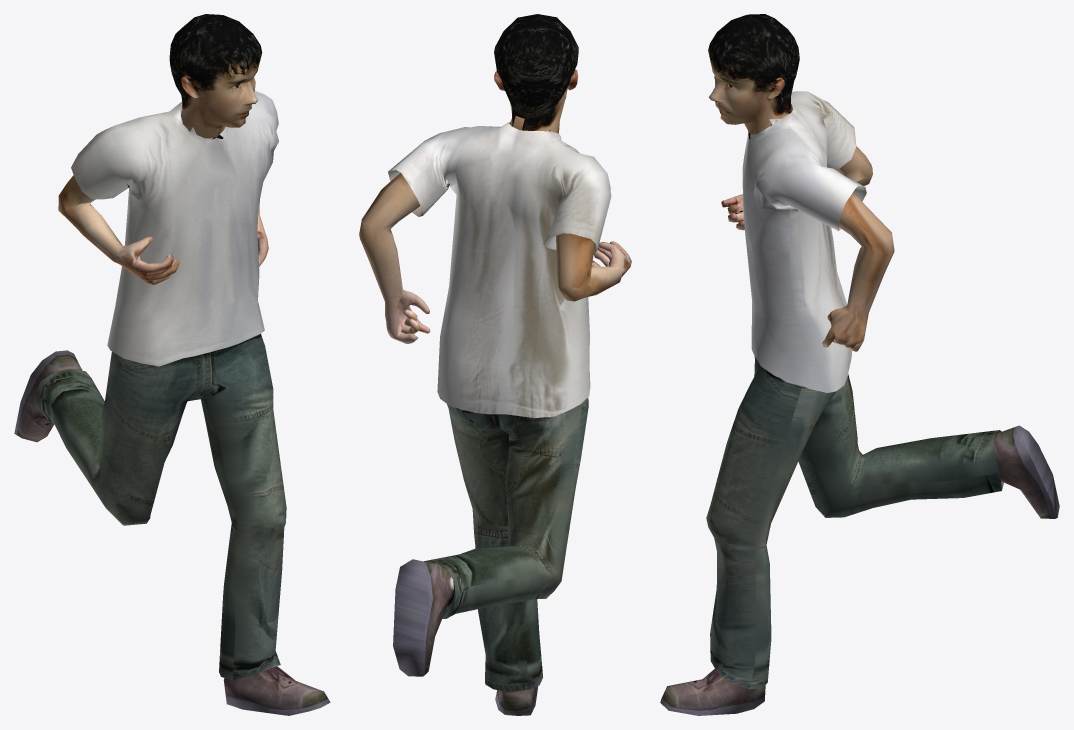
The model's file is boy.dae.
3 renders of one model, left to right at view 1: azimuth 30°, elevation 25°; view 2: azimuth 150°, elevation 25°; view 3: azimuth 270°, elevation 25°, orthographic. The views are drawn at different scales.
Parts seen in each view (by area): view 1: skp5F (×2); view 2: skp5F (×2); view 3: skp5F (×2).
Part boxes in pixels (box(x1,y1,x2,y2)): skp5F (×2): box(14, 14, 330, 715); skp5F (×2): box(359, 14, 631, 715); skp5F (×2): box(660, 14, 1059, 715).
Bounding box in the file's own units: 0.5356 × 0.8906 × 1.65.
2 materials, 1 textured.
